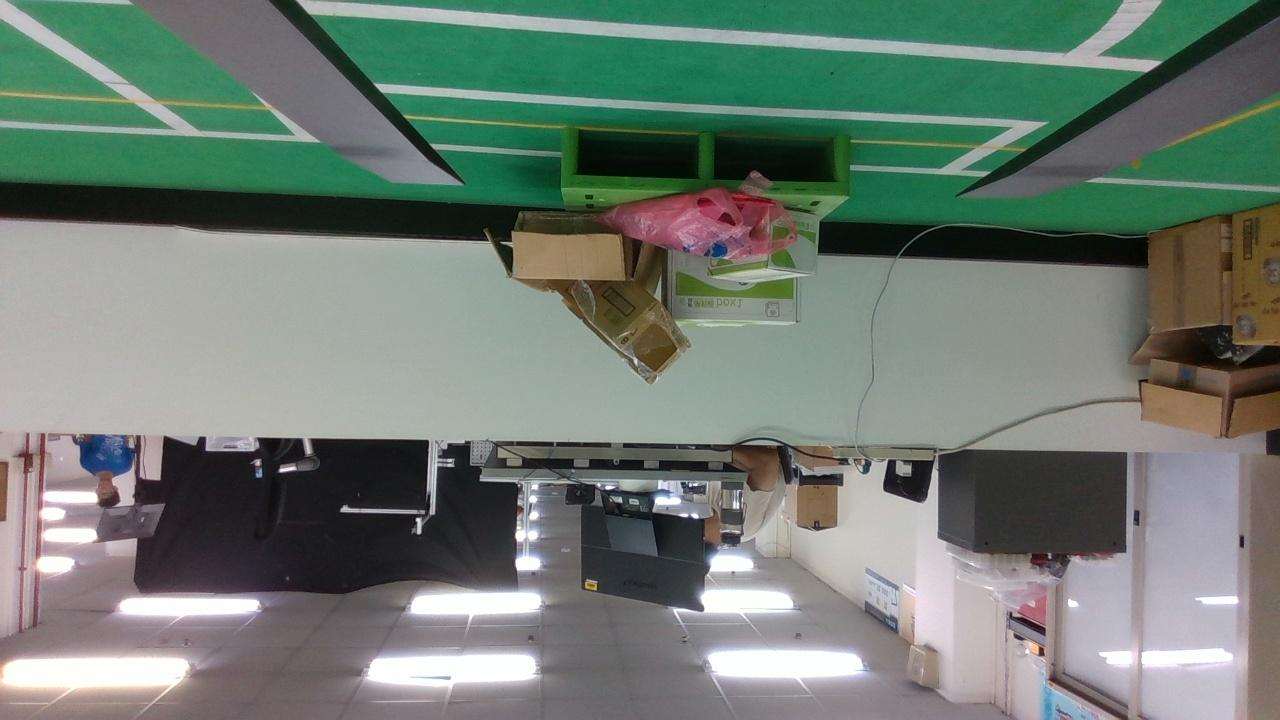Pallet: (560, 128, 852, 198)
